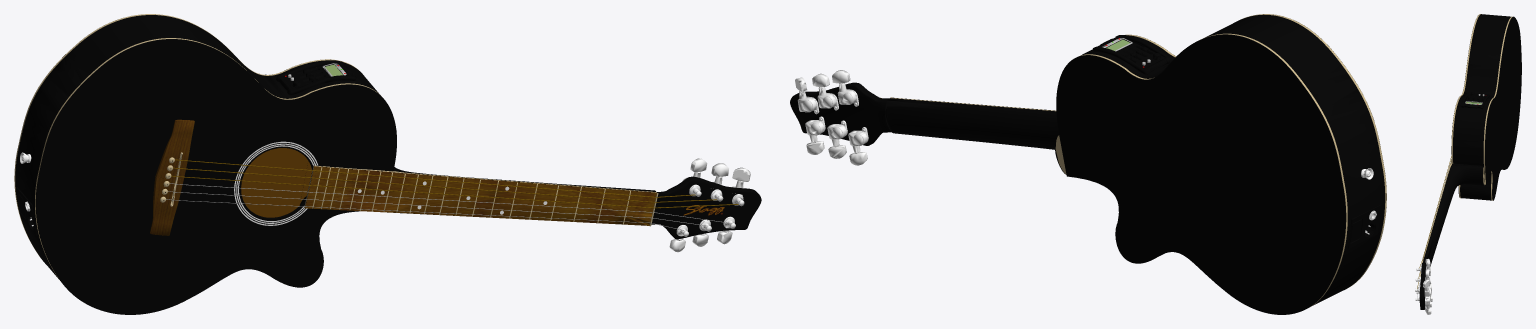
File: guitar-optimized.glb
3 renders of one model, left to right at view 1: azimuth 30°, elevation 25°; view 2: azimuth 150°, elevation 25°; view 3: azimuth 270°, elevation 25°, orthographic. The views are drawn at different scales.
Parts seen in each view (by area): view 1: Object_2, Object_8, Object_10, Object_6, Object_11; view 2: Object_2; view 3: Object_2.
Part boxes in pixels (x1=…): Object_2: x1=14, y1=14, x2=761, y2=314; Object_8: x1=305, y1=166, x2=656, y2=225; Object_10: x1=241, y1=148, x2=312, y2=217; Object_6: x1=652, y1=184, x2=760, y2=234; Object_11: x1=150, y1=119, x2=194, y2=235; Object_2: x1=790, y1=14, x2=1386, y2=314; Object_2: x1=1415, y1=14, x2=1521, y2=314.
Size of the model in its own units: 9.62 by 4.13 by 2.51.
6 materials, 6 textured.
